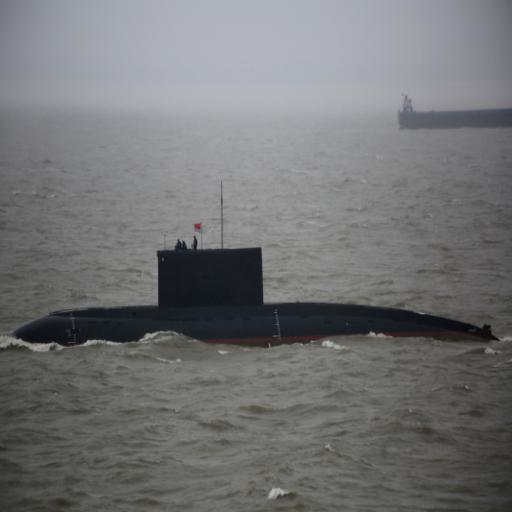submarine: (9, 230, 499, 344)
